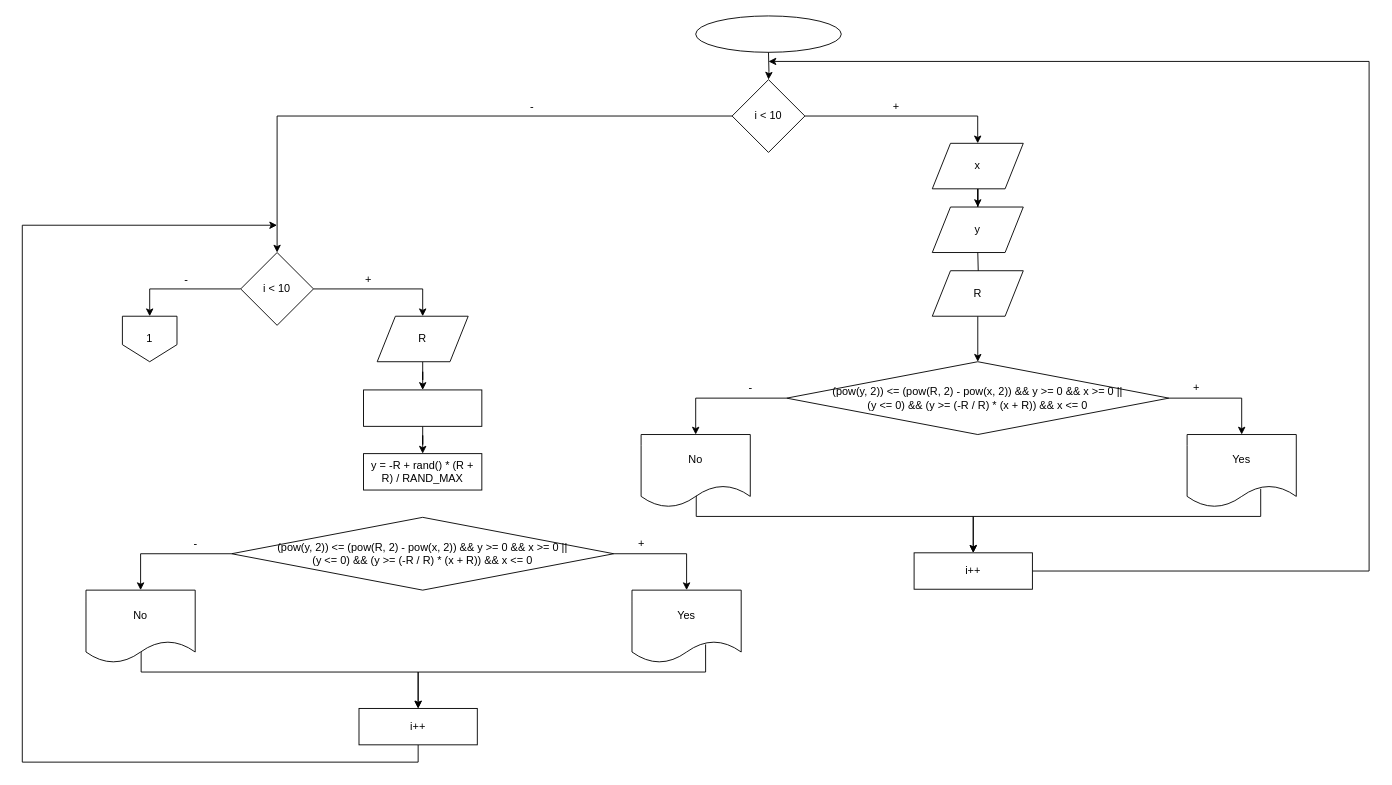
This 1392x785 diagram has some shape labels left out. Each missing label, with the box of its shape:
x = -R + rand() * (R + R) / RAND_MAX: (363, 389, 482, 426)
Початок: (695, 15, 841, 52)
